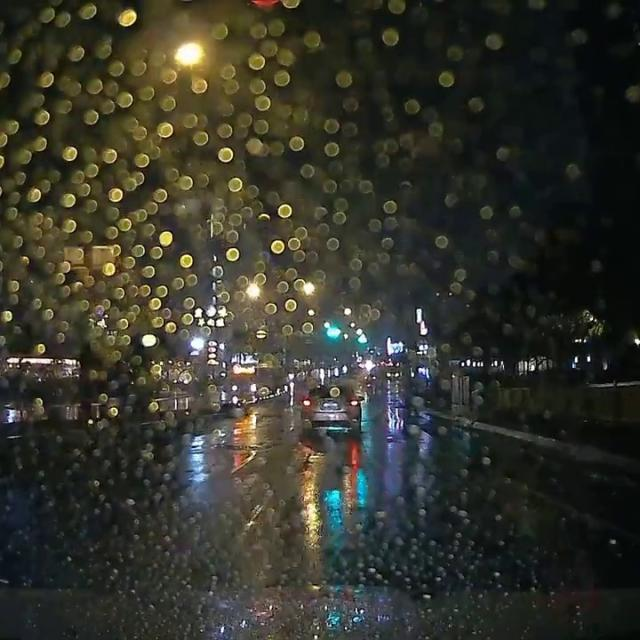Car: (297, 383, 362, 437)
